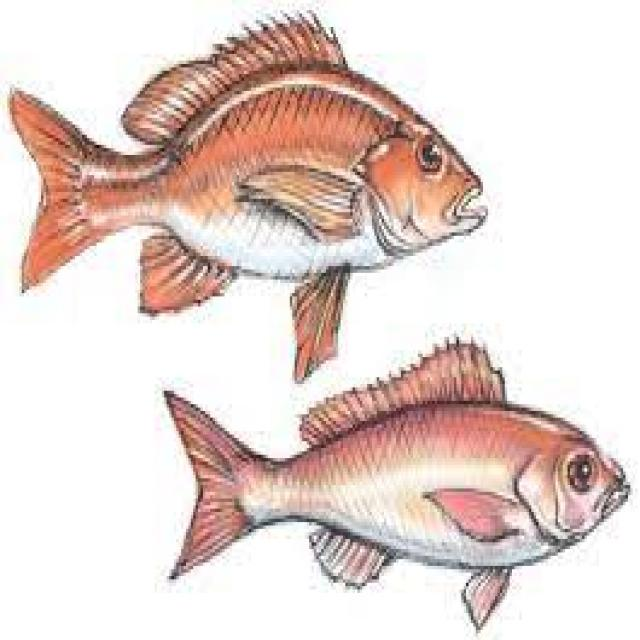northern-red-snapper: (8, 10, 496, 348), (135, 323, 640, 640)
